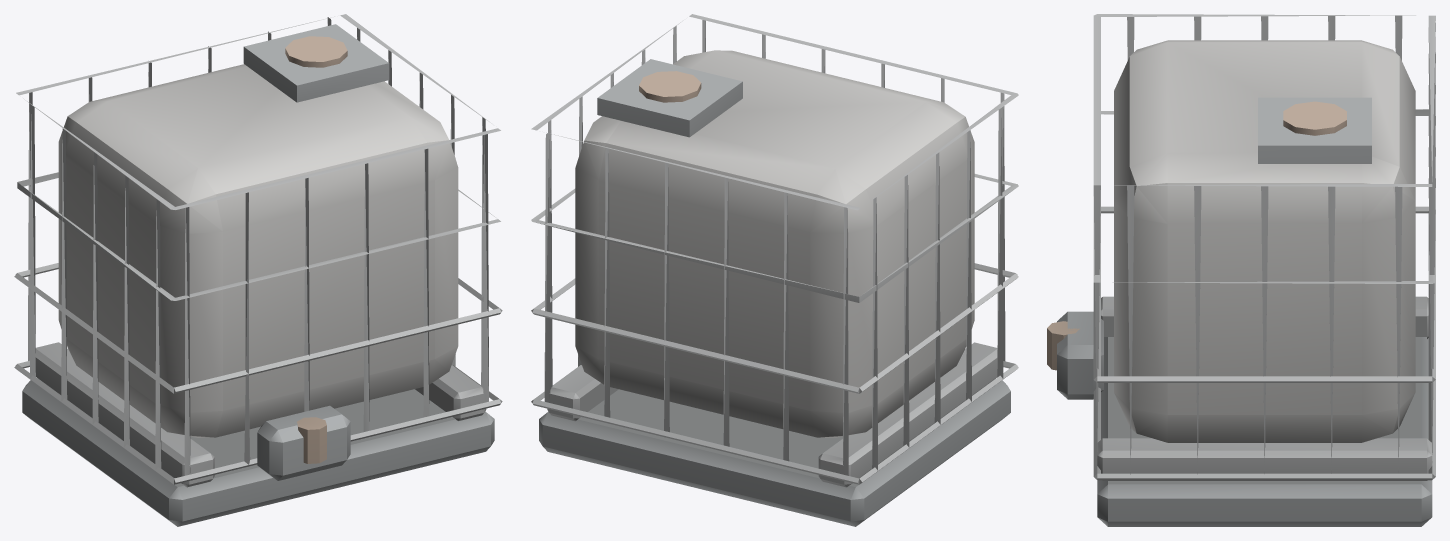
The model's file is ibc.lod1.glb.
3 views of the same model, side by side, from view 1: azimuth 30°, elevation 25°; view 2: azimuth 150°, elevation 25°; view 3: azimuth 270°, elevation 25° (orthographic). The views are drawn at different scales.
Size of the model in its own units: 1.22 by 1.23 by 1.16.
